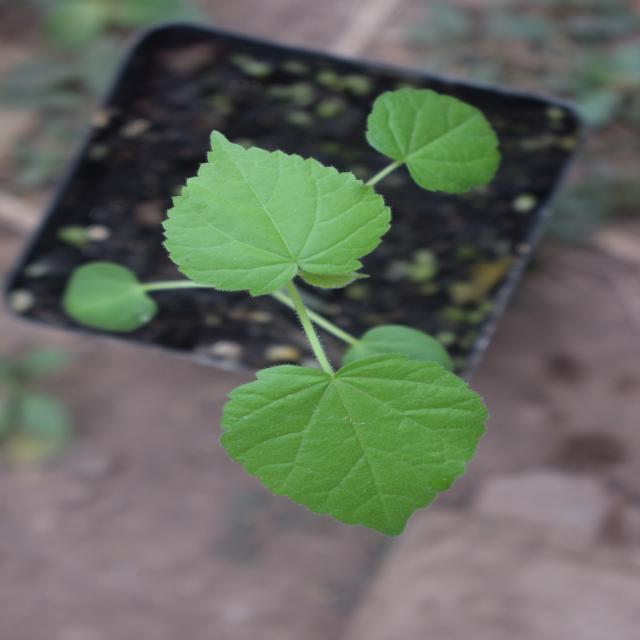abutilon theophrasti: (130, 140, 564, 536)
